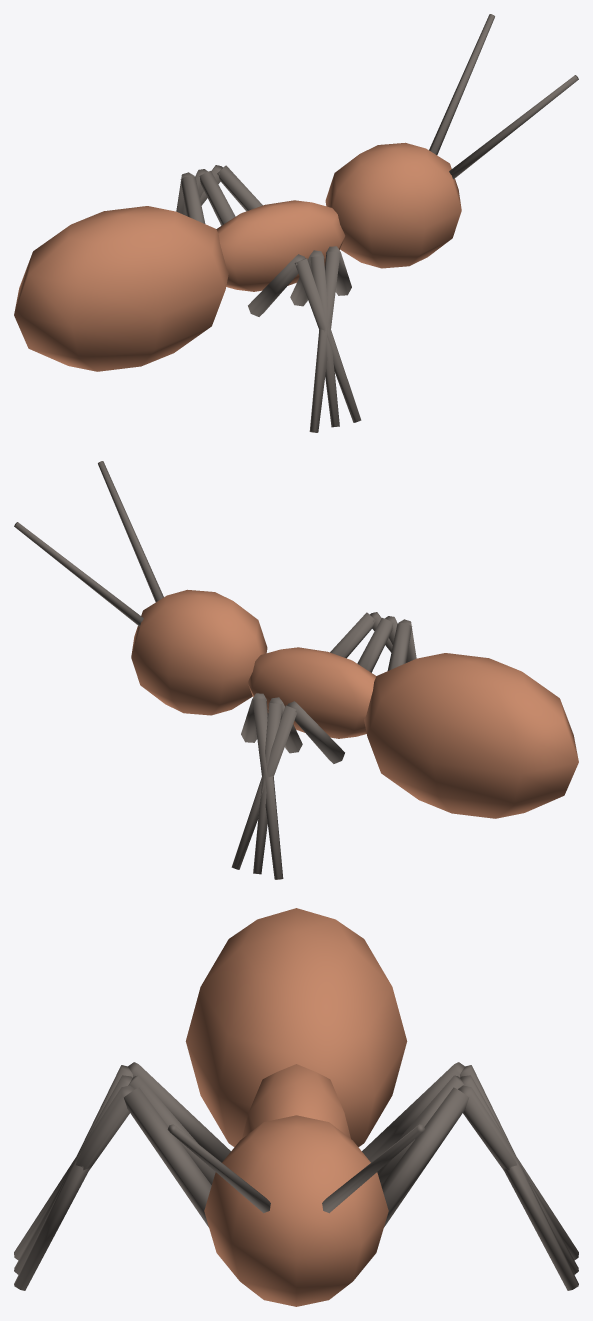
File: ceylon-tree-ant.glb
The picture shows the model from 3 angles, top to bottom: view 1: azimuth 30°, elevation 25°; view 2: azimuth 150°, elevation 25°; view 3: azimuth 270°, elevation 25°; orthographic projection. The views are drawn at different scales.
Visible parts, largest first — view 1: e; view 2: e; view 3: e.
Part boxes in pixels (x1,y1,x2,y2): e: (14, 14, 578, 432); e: (14, 461, 578, 879); e: (14, 908, 578, 1306).
Size of the model in its own units: 0.2891 by 0.1293 by 0.1836.
